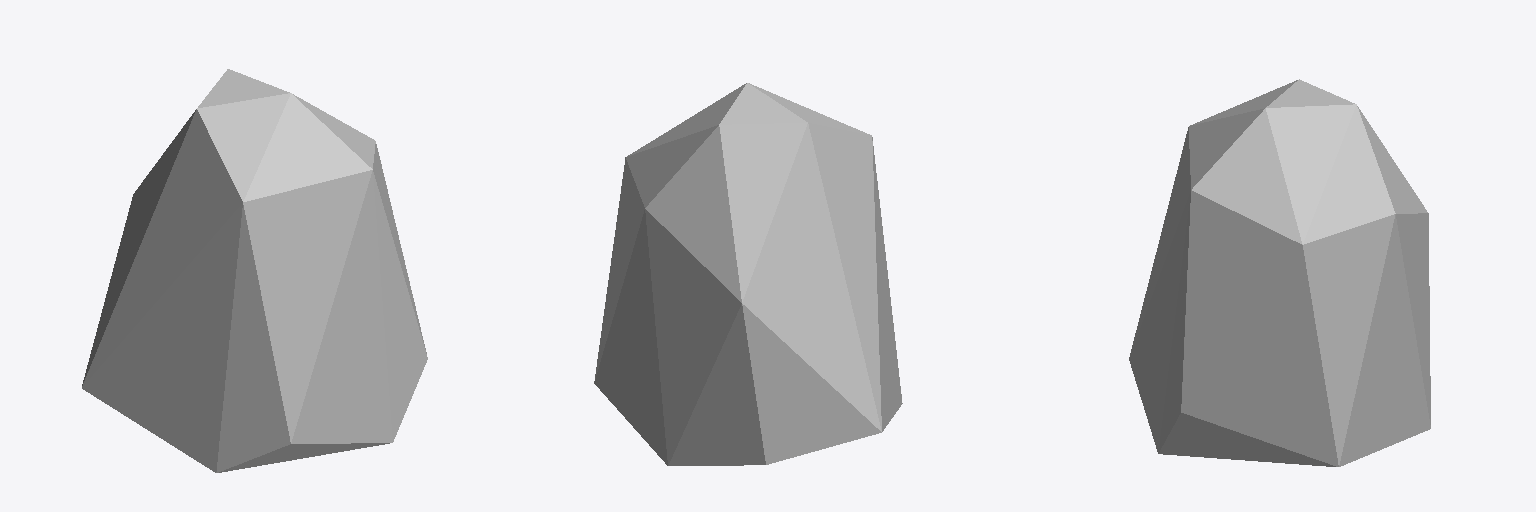
Rendered from rock21.obj.
The picture shows the model from 3 angles: view 1: azimuth 30°, elevation 25°; view 2: azimuth 150°, elevation 25°; view 3: azimuth 270°, elevation 25°; orthographic projection.
Visible parts, largest first — view 1: Rock5_Cylinder.019; view 2: Rock5_Cylinder.019; view 3: Rock5_Cylinder.019.
Boxes of the visible parts, x1,y1,x2,y2 form: Rock5_Cylinder.019: [82, 69, 427, 472]; Rock5_Cylinder.019: [594, 83, 902, 465]; Rock5_Cylinder.019: [1129, 79, 1430, 466].
Bounding box in the file's own units: 2.13 × 2.27 × 1.93.